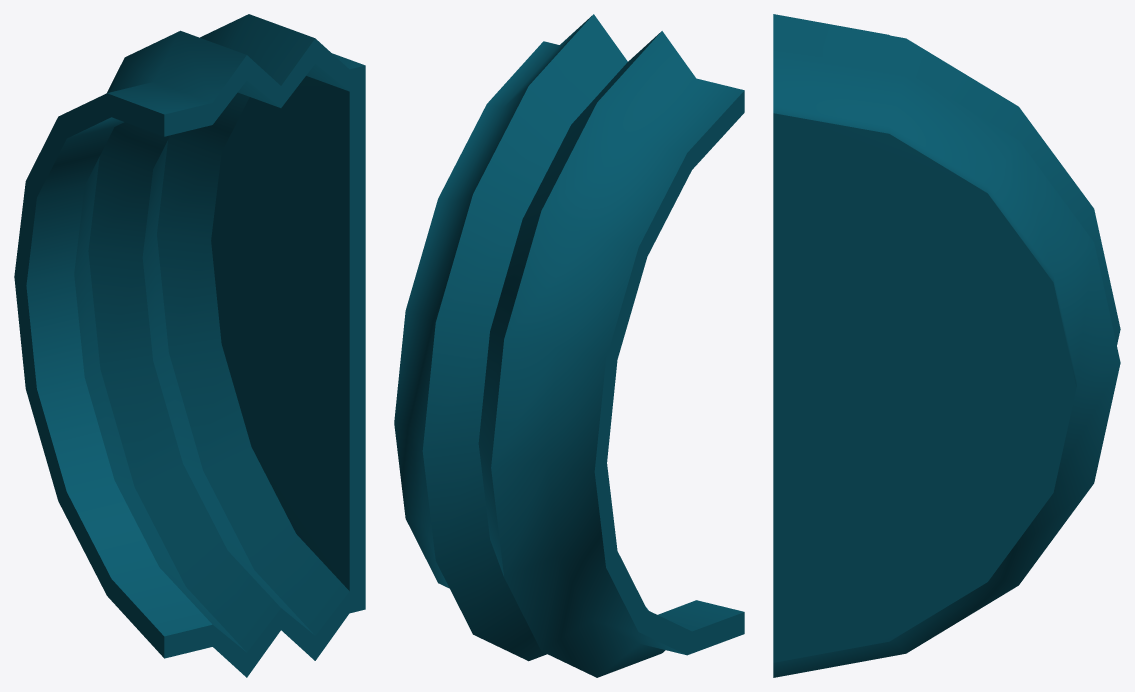
File: Modulo1_Final_Blockout.FBX
3 views of the same model, side by side, from view 1: azimuth 30°, elevation 25°; view 2: azimuth 150°, elevation 25°; view 3: azimuth 270°, elevation 25° (orthographic).
Parts seen in each view (by area): view 1: Tubo_Modulo1_Final; view 2: Tubo_Modulo1_Final; view 3: Tubo_Modulo1_Final.
Boxes of the visible parts, x1,y1,x2,y2 form: Tubo_Modulo1_Final: (14, 14, 365, 677); Tubo_Modulo1_Final: (394, 14, 744, 677); Tubo_Modulo1_Final: (773, 14, 1120, 677).
Size of the model in its own units: 37.38 by 111 by 55.26.
